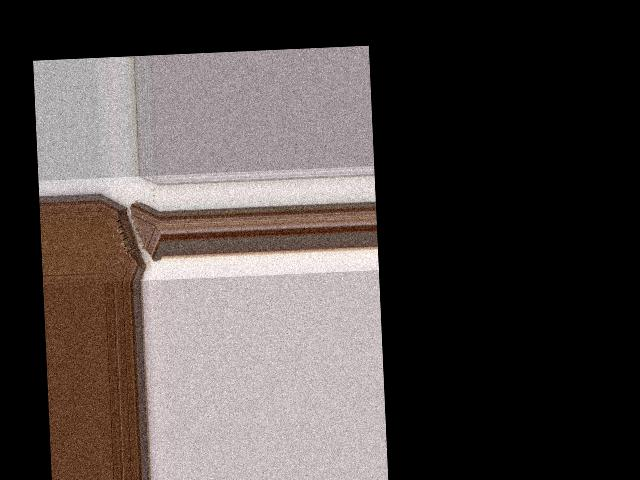chocolate: (101, 190, 163, 281)
